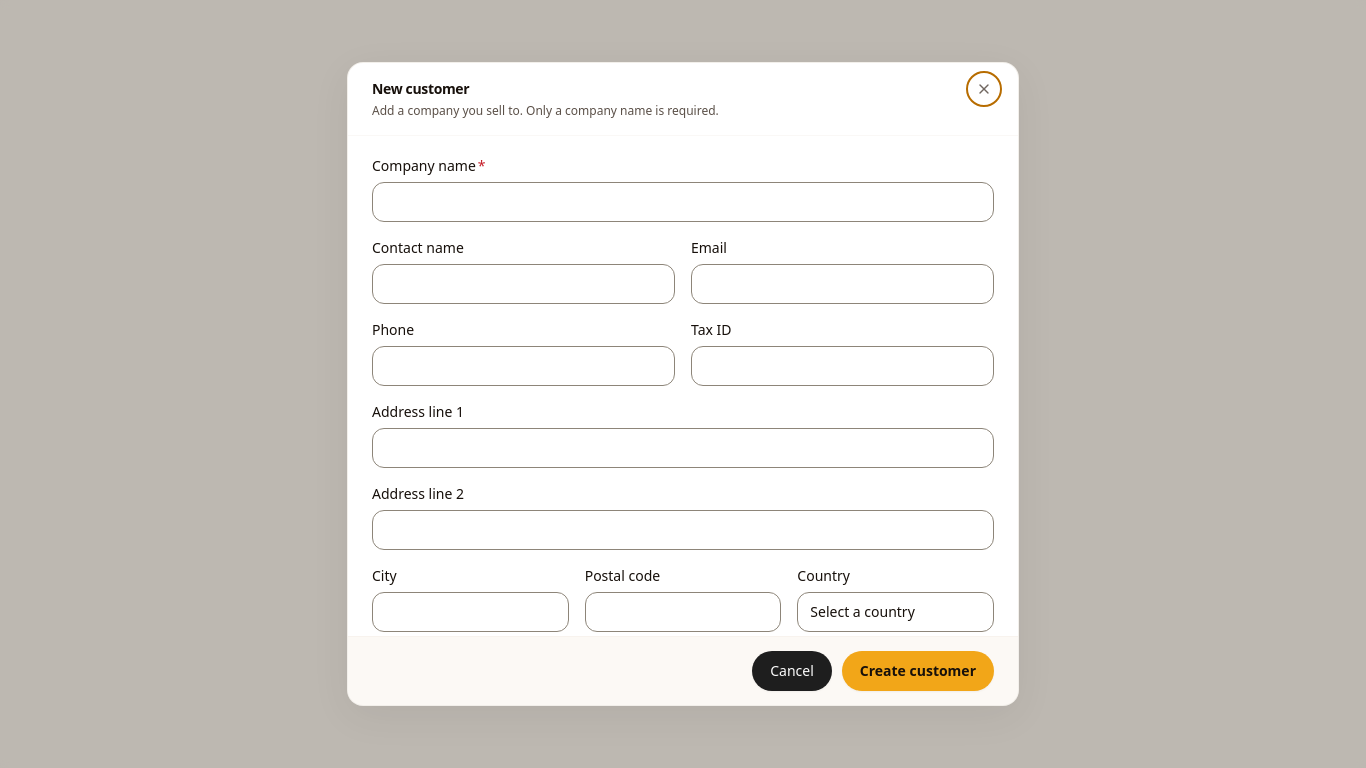
Scenario: CustomerFormDialog VAT fields › warns when registered without a TRN
Select "United Arab Emirates (AE)" in the dropdown labelled "Country". click: x=896, y=612
box: [797, 592, 994, 632]
(page scrolled)
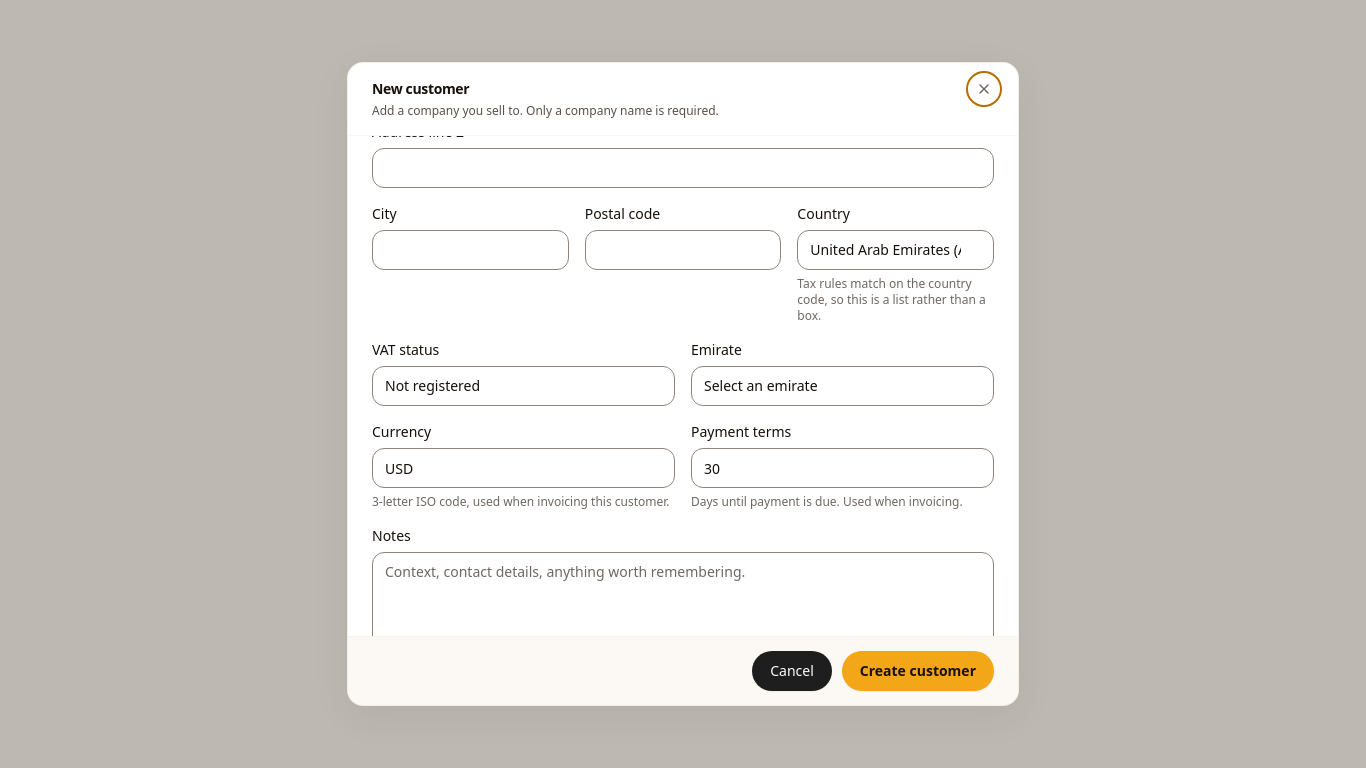
Select "Registered in the UAE" in the dropdown labelled "VAT status". click: x=524, y=386
box: [372, 366, 675, 406]
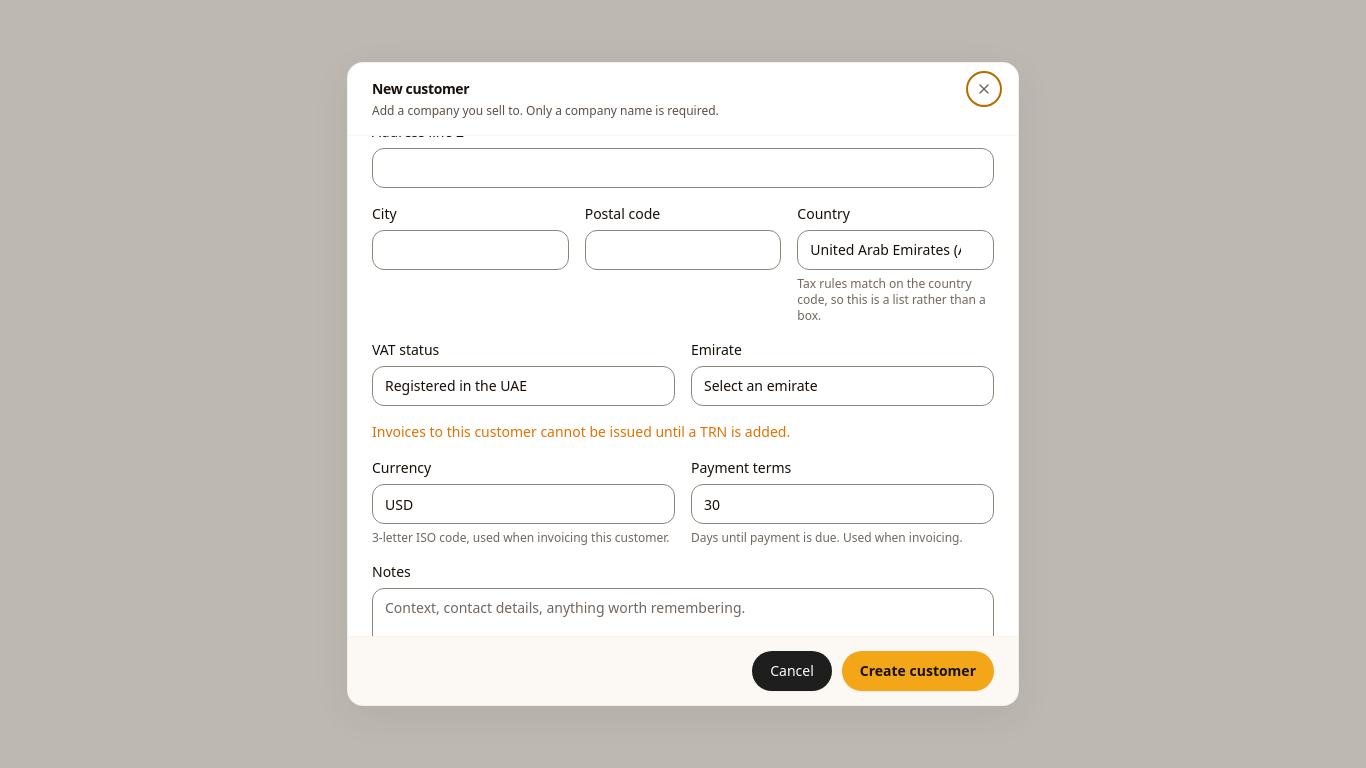
Now the text "Invoices to this customer cannot be issued until a TRN is added." is shown, box [372, 422, 790, 441]
